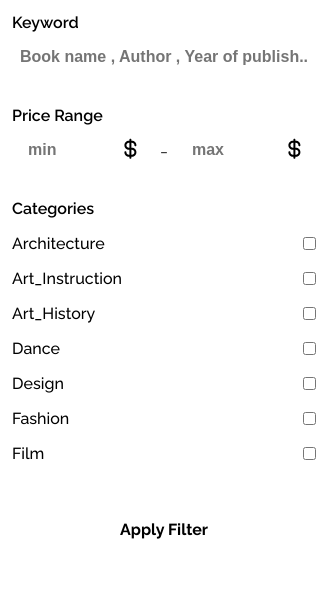
Test: Test Component : Filter › change filter and click on the apply
Type "siaw" into the field with test id "booksKeywordInput".
click(164, 57); type("siaw")  # box [12,40,316,74]
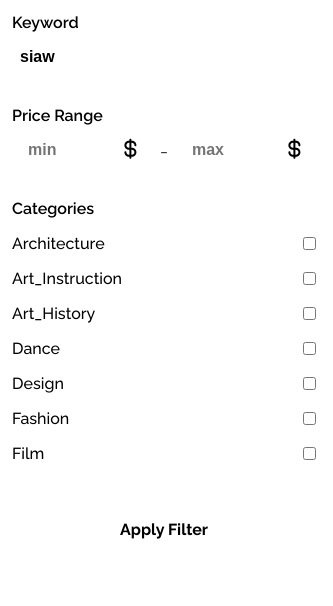
Click the button with test id "booksFilterApplyFilterButton".
click(164, 530)  # box [12,514,316,546]
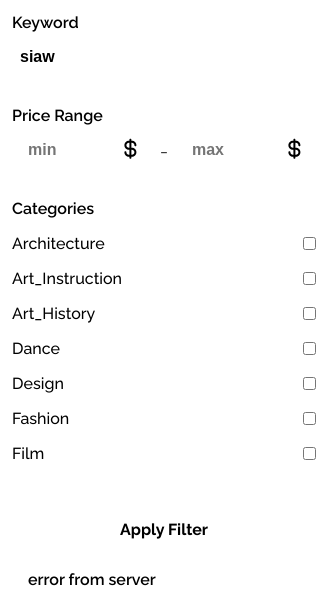
Check: the element with test id "errorMessage" reads "error from server", box [28,570,156,589]
Click the button with test id "booksFilterApplyFilterButton".
click(164, 530)  # box [12,514,316,546]
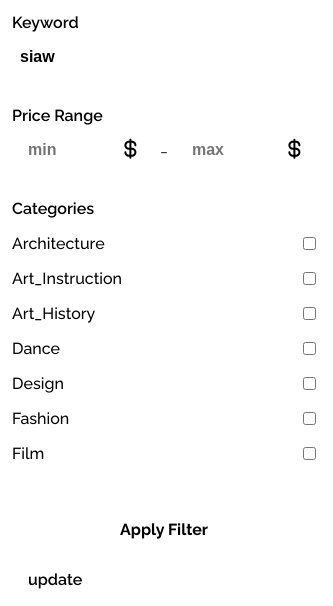
Check: the element with test id "successMessage" reads "update", box [28,570,82,589]
